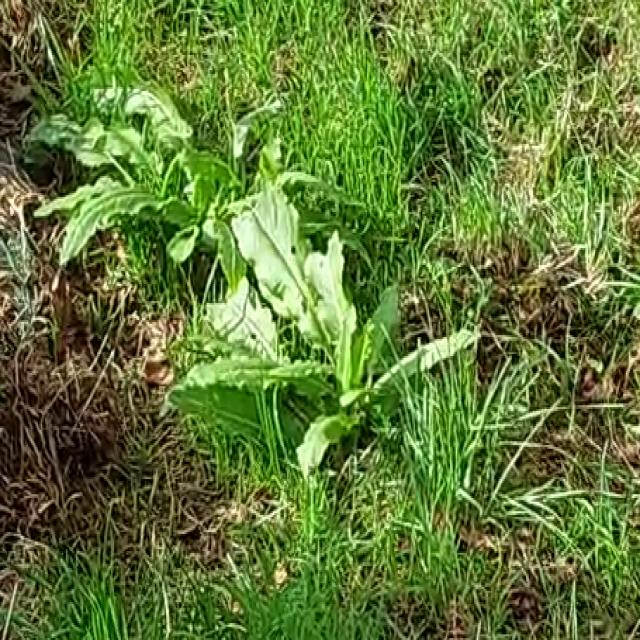organic waste: (164, 155, 424, 481), (23, 53, 246, 275)
